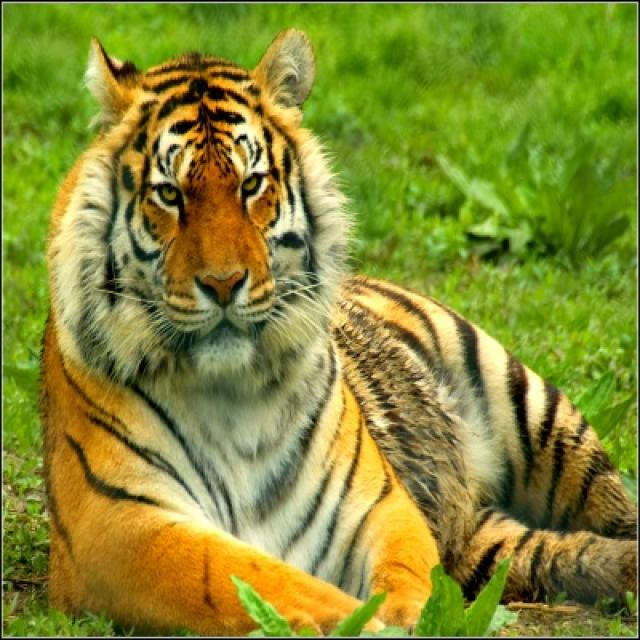Tiger: (40, 30, 634, 634)
